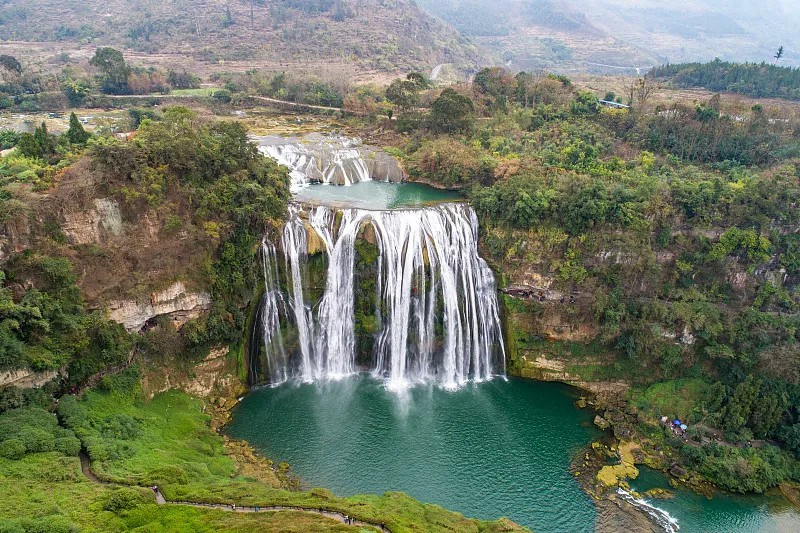Huangguoshu: (254, 146, 506, 387)
